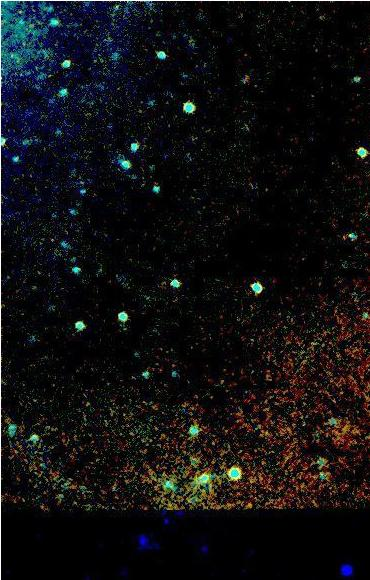star: (6, 0, 36, 29)
